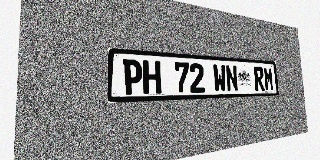2: (189, 63, 205, 93)
7: (174, 62, 190, 93)
H: (143, 60, 161, 94)
M: (263, 67, 274, 91)
N: (225, 65, 238, 92)
P: (122, 59, 143, 95)
R: (254, 66, 265, 91)
W: (213, 64, 226, 92)
